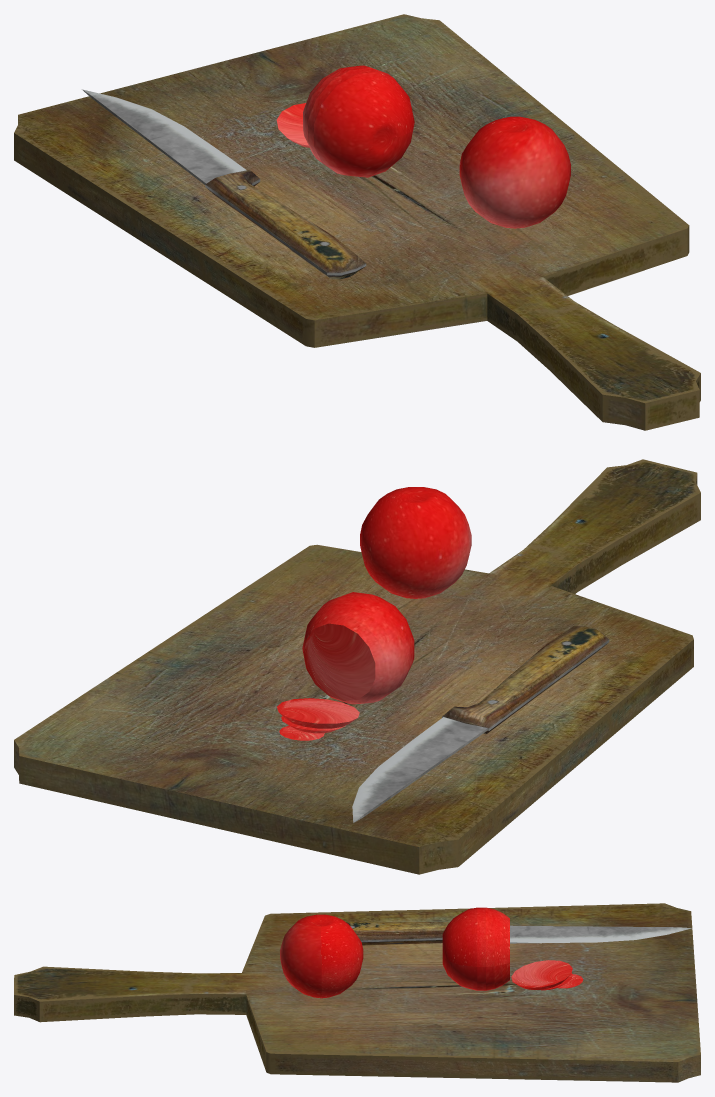
3 views of the same model, one above another, from view 1: azimuth 30°, elevation 25°; view 2: azimuth 150°, elevation 25°; view 3: azimuth 270°, elevation 25° (orthographic). The views are drawn at different scales.
Parts seen in each view (by area): view 1: board_lp, knife_lp, pSphere2, polySurface32, polySurface23, polySurface31; view 2: board_lp, knife_lp, pSphere2, polySurface25, polySurface23, polySurface27, polySurface29, polySurface31, polySurface32; view 3: board_lp, pSphere2, knife_lp, polySurface32, polySurface23, polySurface31, polySurface29, polySurface27, polySurface25.
Boxes of the visible parts, box(x1,y1,x2,y2) form: board_lp: box(14, 14, 700, 430); knife_lp: box(82, 89, 366, 279); pSphere2: box(459, 116, 570, 228); polySurface32: box(314, 71, 414, 177); polySurface23: box(276, 103, 309, 147); polySurface31: box(308, 67, 392, 162); board_lp: box(14, 459, 700, 874); knife_lp: box(352, 626, 609, 822); pSphere2: box(360, 487, 471, 598); polySurface25: box(302, 613, 385, 703); polySurface23: box(277, 698, 359, 728); polySurface27: box(306, 605, 395, 704); polySurface29: box(308, 598, 403, 702); polySurface31: box(324, 594, 409, 689); polySurface32: box(347, 592, 414, 684); board_lp: box(14, 903, 700, 1082); pSphere2: box(280, 914, 363, 998); knife_lp: box(346, 922, 691, 945); polySurface32: box(442, 907, 477, 990); polySurface23: box(511, 960, 572, 989); polySurface31: box(477, 907, 485, 990); polySurface29: box(486, 907, 494, 990); polySurface27: box(494, 909, 502, 988); polySurface25: box(502, 913, 509, 984).
Size of the model in its own units: 35.43 by 10.65 by 64.81.
